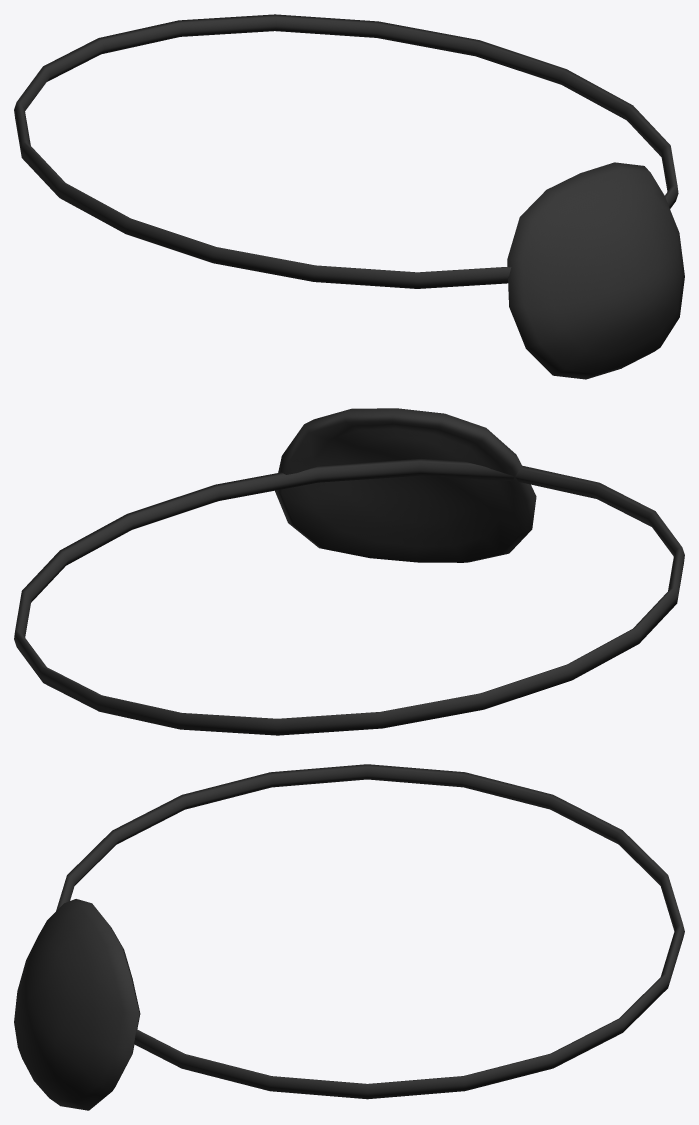
Rendered from EYE_eyepatch.fbx.
3 renders of one model, top to bottom at view 1: azimuth 30°, elevation 25°; view 2: azimuth 150°, elevation 25°; view 3: azimuth 270°, elevation 25°, orthographic. The views are drawn at different scales.
Parts seen in each view (by area): view 1: eyepatch1; view 2: eyepatch1; view 3: eyepatch1.
Boxes of the visible parts, x1,y1,x2,y2 form: eyepatch1: [14, 14, 684, 379]; eyepatch1: [14, 408, 684, 735]; eyepatch1: [14, 764, 684, 1110].
Size of the model in its own units: 71.54 by 20.56 by 77.04.
Materials: 1 (1 with a texture image).
